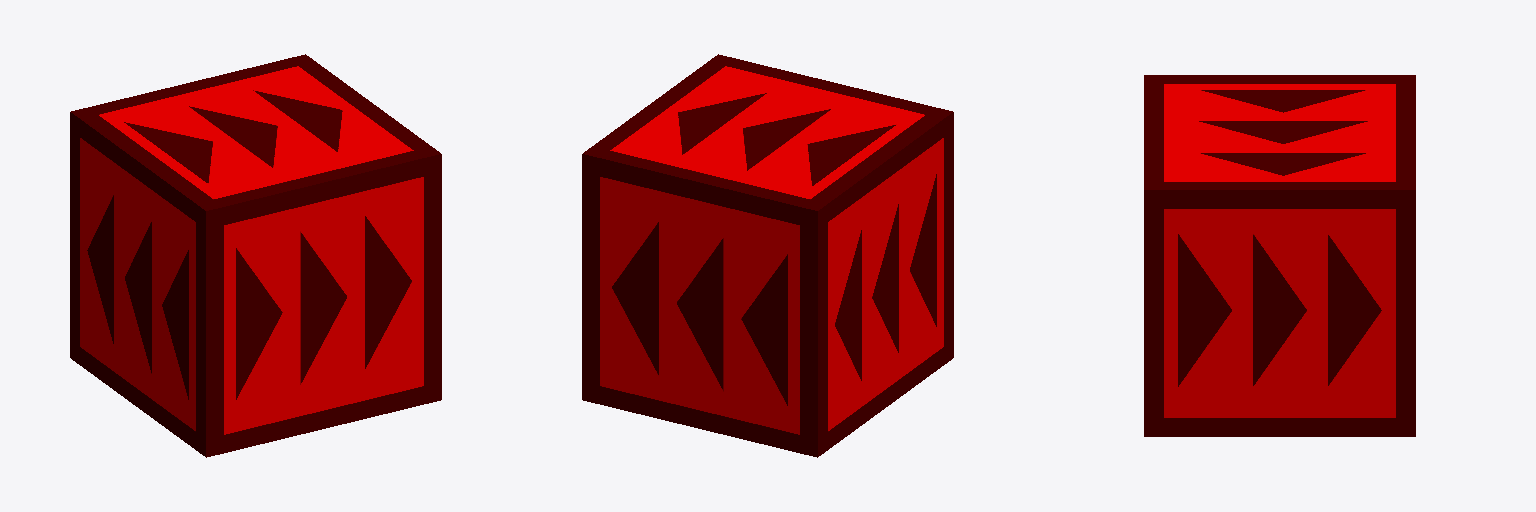
3 views of the same model, side by side, from view 1: azimuth 30°, elevation 25°; view 2: azimuth 150°, elevation 25°; view 3: azimuth 270°, elevation 25° (orthographic).
Visible parts, largest first — view 1: Cube; view 2: Cube; view 3: Cube.
Part boxes in pixels (bbox=[...]): Cube: bbox=[70, 54, 441, 457]; Cube: bbox=[582, 54, 953, 457]; Cube: bbox=[1144, 75, 1415, 436].
Bounding box in the file's own units: 0.6 × 0.6 × 0.6.
1 materials, 1 textured.